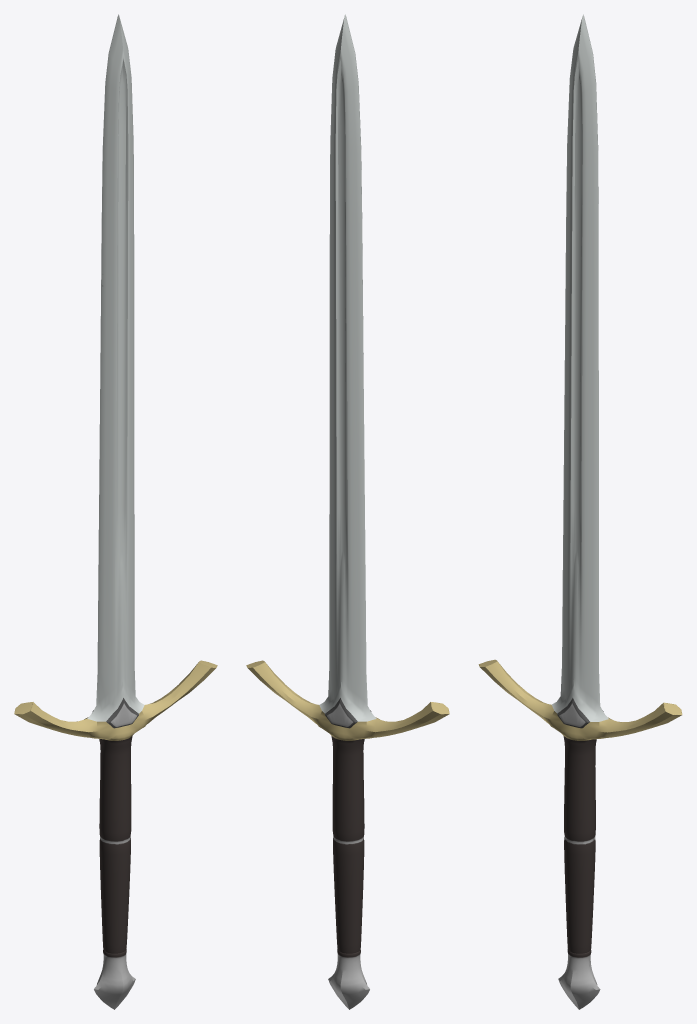
The model's file is calidus.fbx.
3 renders of one model, left to right at view 1: azimuth 30°, elevation 25°; view 2: azimuth 150°, elevation 25°; view 3: azimuth 330°, elevation 25°, orthographic.
Visible parts, largest first — view 1: Calidus; view 2: Calidus; view 3: Calidus.
Part boxes in pixels (x1,y1,x2,y2): Calidus: [14, 14, 217, 1009]; Calidus: [246, 14, 449, 1009]; Calidus: [478, 14, 682, 1009].
Size of the model in its own units: 69.57 by 325 by 10.41.
